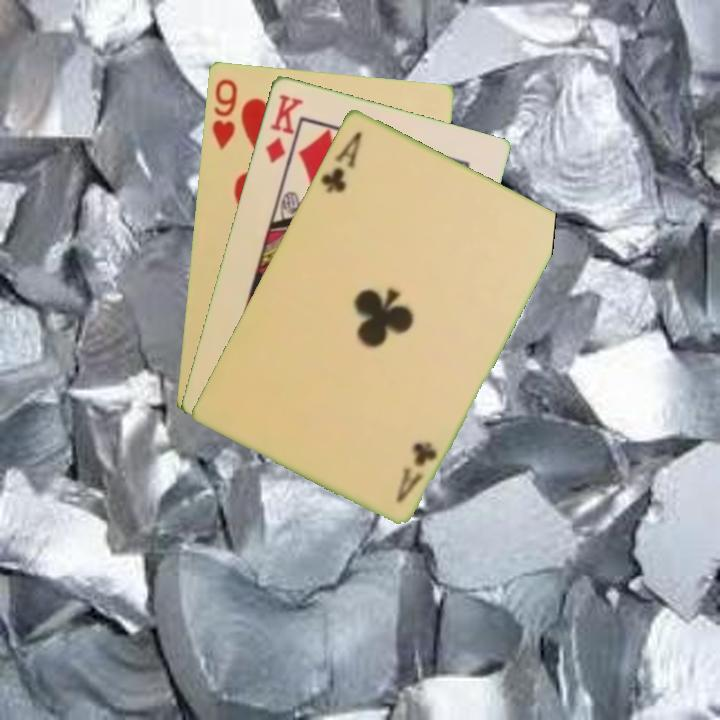9h: (208, 75, 240, 152)
Ac: (316, 127, 365, 196), (392, 437, 440, 506)
Kd: (262, 90, 306, 166)
